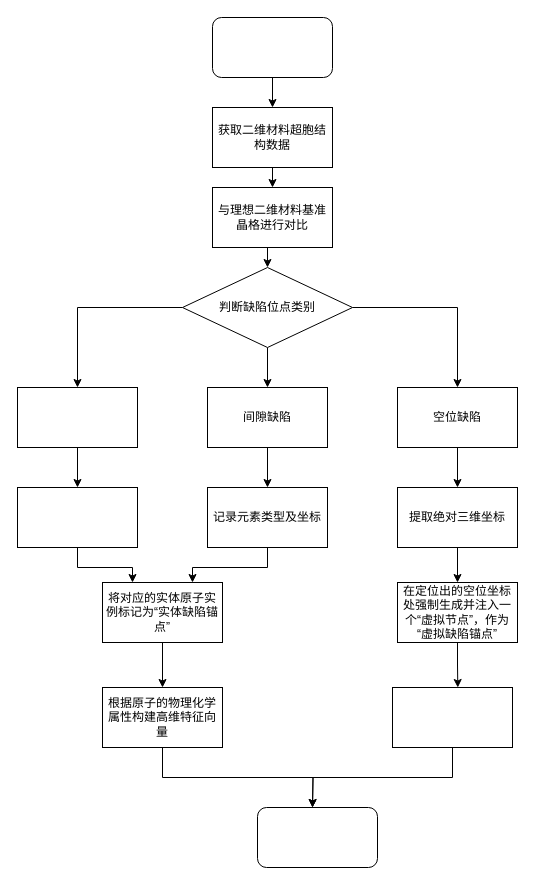
Image size: 535x885. Some labels were removed from this diagram. Here are the shapes that lost their labels. From the top down, the centre of each, then its label:
the point at 272,47: 开始
the point at 77,417: 替位/掺杂缺陷
the point at 77,517: 记录实际元素类型及坐标
the point at 452,717: 赋予特定的可学习物理嵌入向量
the point at 317,837: 完成晶体数据解析与缺陷锚点动态注入
